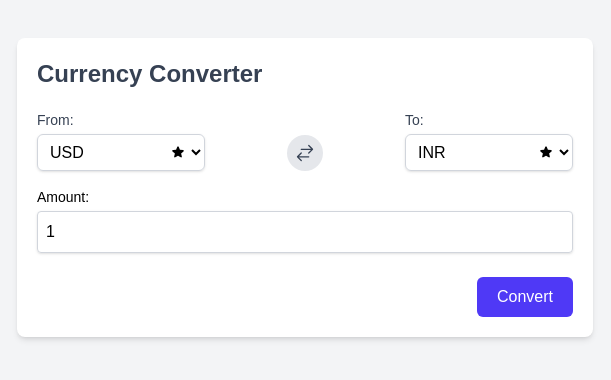
Test: Currency Converter App › shows error message when API request fails
Click the button "Convert" at [525, 297], box [477,277,573,317]
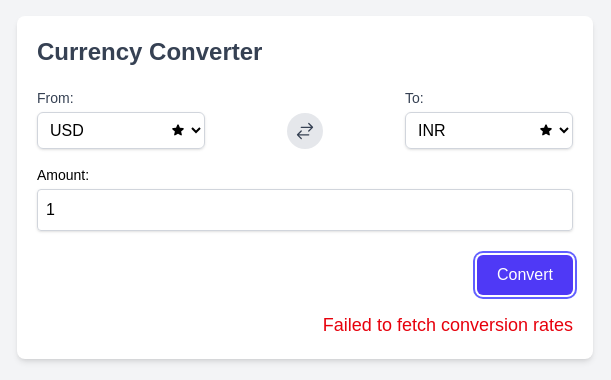
Expected: the text named "error" reads "Failed to fetch conversion rates", [323,315,573,335]
